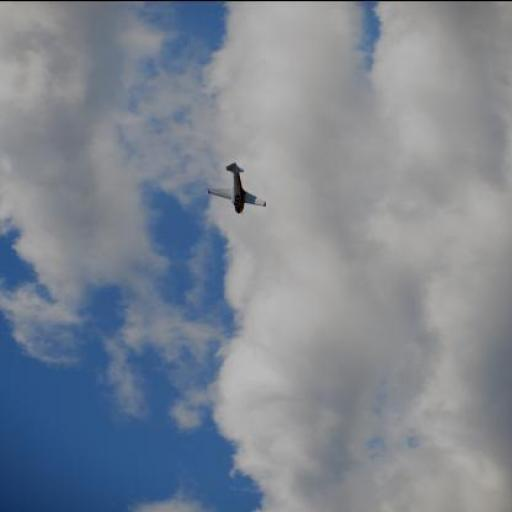aircraft: (201, 154, 268, 220)
